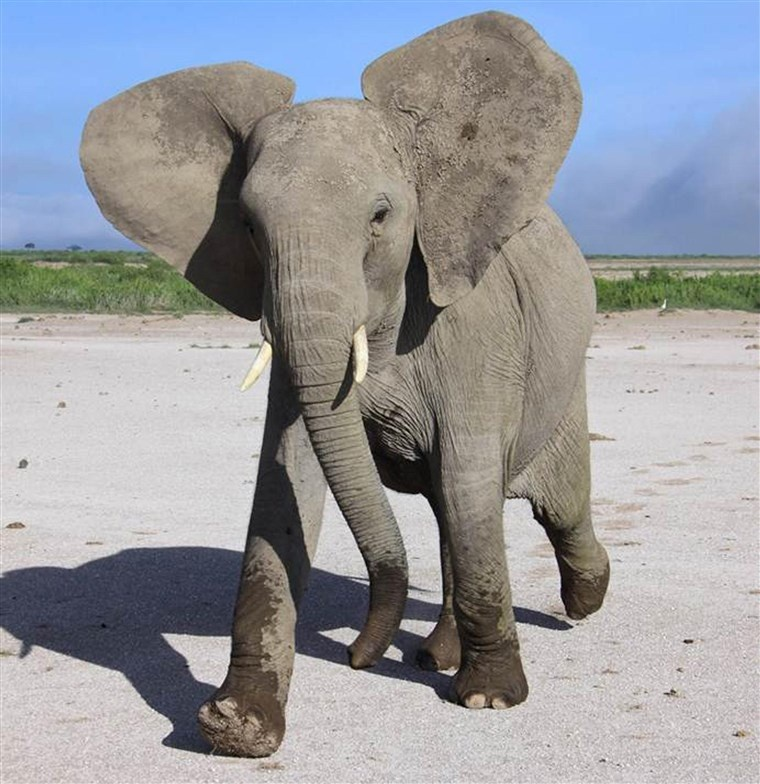elephant: (78, 5, 608, 756)
